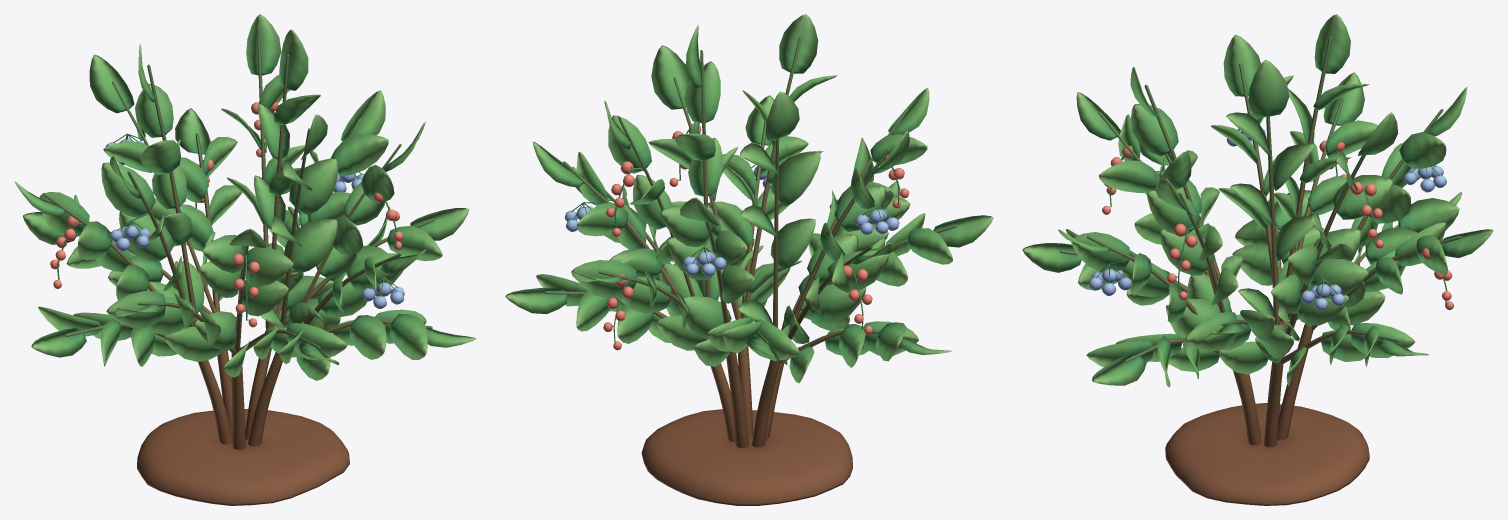
The model's file is berry-bush-grab3d-cc0.glb.
3 views of the same model, side by side, from view 1: azimuth 30°, elevation 25°; view 2: azimuth 150°, elevation 25°; view 3: azimuth 270°, elevation 25° (orthographic).
Visible parts, largest first — view 1: berry-bush_body; view 2: berry-bush_body; view 3: berry-bush_body.
Boxes of the visible parts, left/top/right/bottom form: berry-bush_body: left=14, top=14, right=476, bottom=505; berry-bush_body: left=505, top=14, right=993, bottom=505; berry-bush_body: left=1022, top=14, right=1493, bottom=505.
Size of the model in its own units: 0.882 by 0.8708 by 0.8763.
Materials: 1 (1 with a texture image).
